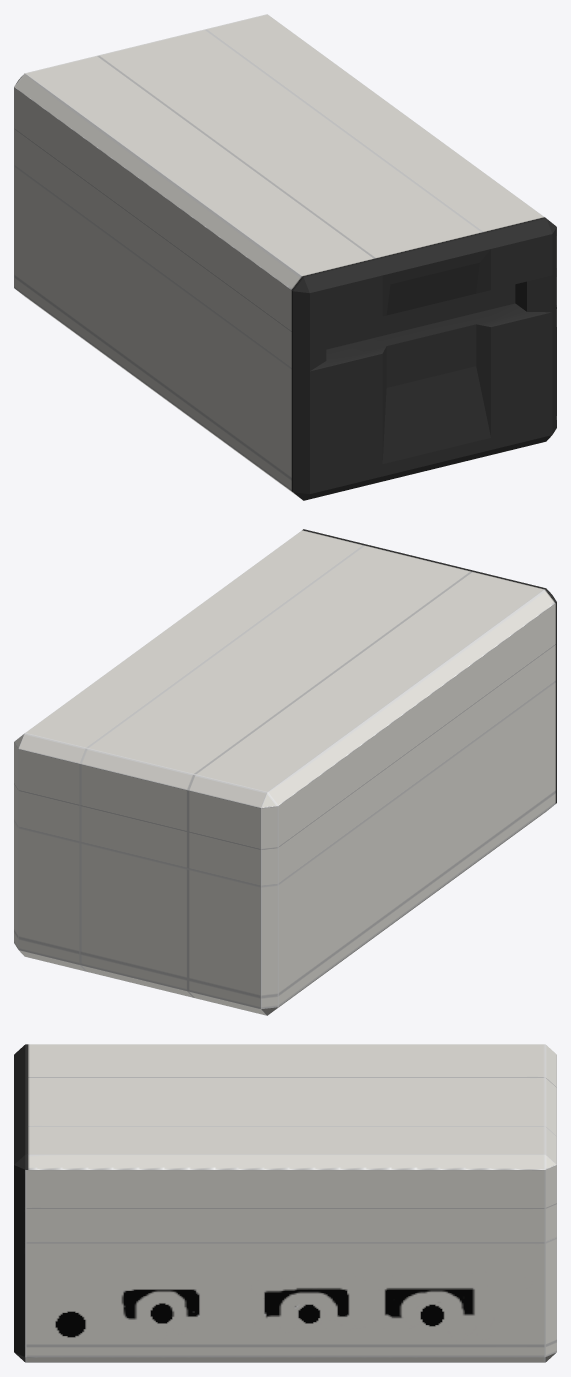
The model's file is floppyDriveGun.fbx.
3 renders of one model, top to bottom at view 1: azimuth 30°, elevation 25°; view 2: azimuth 150°, elevation 25°; view 3: azimuth 270°, elevation 25°, orthographic. The views are drawn at different scales.
Parts seen in each view (by area): view 1: pCube1; view 2: pCube1; view 3: pCube1.
Part boxes in pixels (<box>): pCube1: <box>14,14,556,500</box>; pCube1: <box>14,529,556,1015</box>; pCube1: <box>14,1044,556,1362</box>.
Size of the model in its own units: 10 by 8.08 by 19.11.
